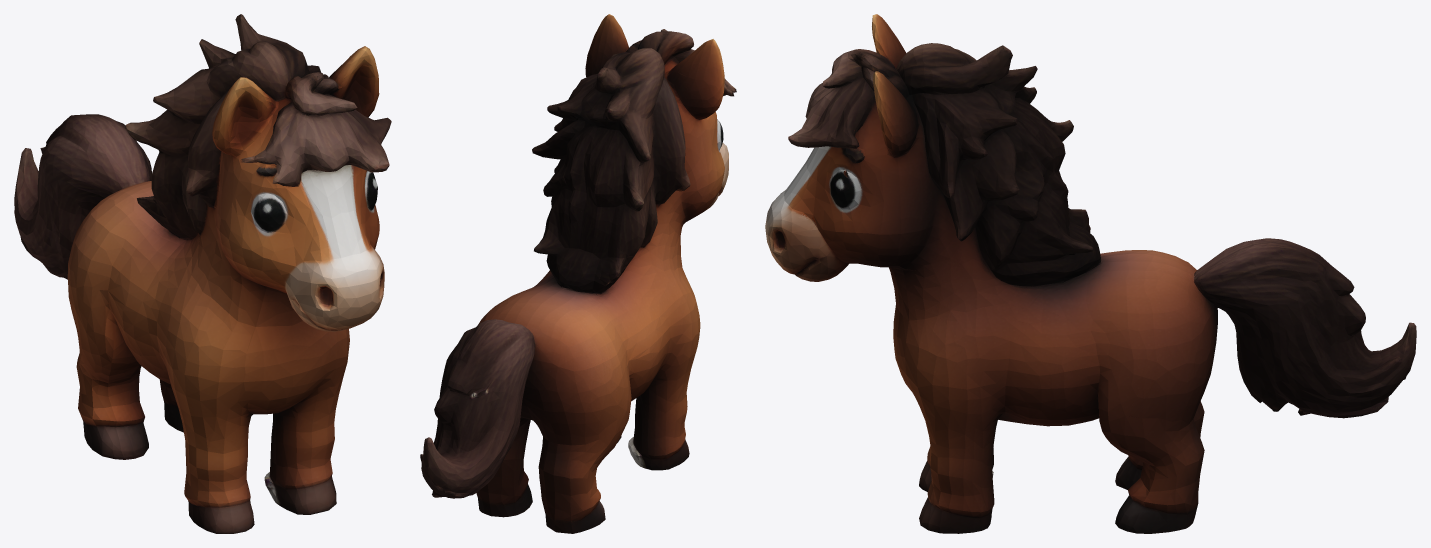
Rendered from horse.glb.
3 renders of one model, left to right at view 1: azimuth 30°, elevation 25°; view 2: azimuth 150°, elevation 25°; view 3: azimuth 270°, elevation 25°, orthographic. The views are drawn at different scales.
Visible parts, largest first — view 1: world; view 2: world; view 3: world.
Boxes of the visible parts, x1,y1,x2,y2 form: world: (14,14,391,533); world: (420,14,736,533); world: (765,14,1416,533).
Bounding box in the file's own units: 0.3033 × 0.7755 × 0.9943.
1 material, 1 textured.
